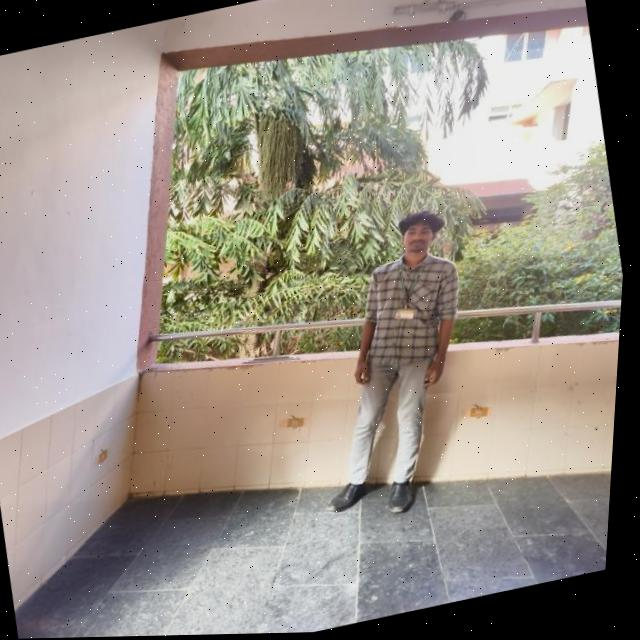id_card: (391, 267, 429, 330)
